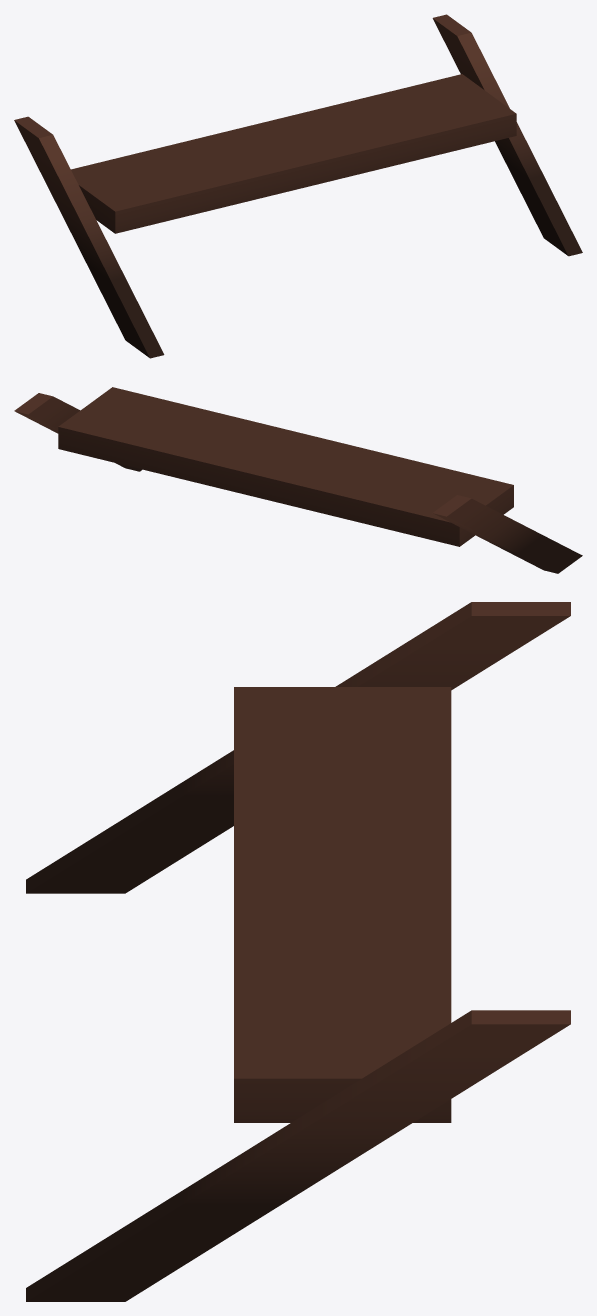
Rendered from Ladder 2M.glb.
3 views of the same model, one above another, from view 1: azimuth 30°, elevation 25°; view 2: azimuth 150°, elevation 25°; view 3: azimuth 270°, elevation 25° (orthographic). The views are drawn at different scales.
Visible parts, largest first — view 1: ladder 2M; view 2: ladder 2M; view 3: ladder 2M.
Boxes of the visible parts, box(x1,y1,x2,y2) form: ladder 2M: box(14, 14, 582, 358); ladder 2M: box(14, 387, 582, 573); ladder 2M: box(26, 602, 570, 1301).
Size of what is drawn, in the model's own units: 1.78 by 0.5463 by 0.9718.
1 material, 1 textured.
